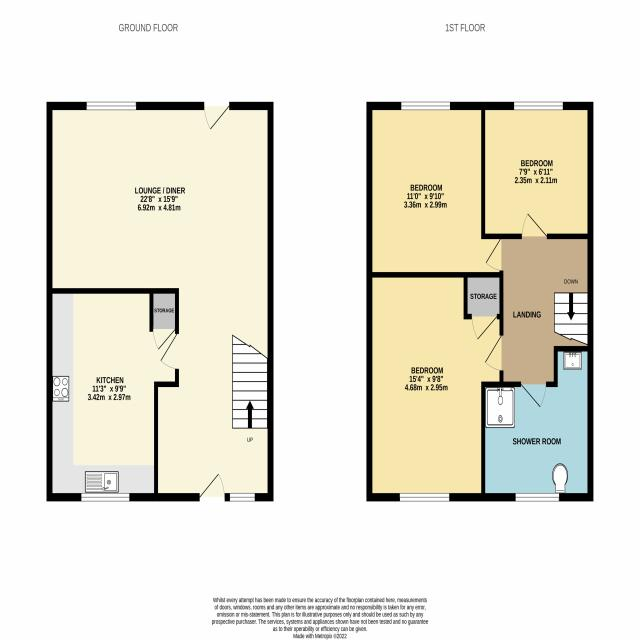DOOR: (202, 101, 230, 131), (198, 472, 226, 502), (484, 334, 504, 372), (159, 332, 179, 370), (520, 381, 547, 409), (521, 212, 548, 239), (484, 237, 504, 272)
ROOM: (46, 101, 274, 502), (366, 272, 504, 502), (46, 288, 179, 502), (366, 101, 504, 278), (481, 101, 594, 240)
WINDOW: (399, 492, 450, 502), (513, 101, 564, 111), (86, 101, 137, 111), (401, 101, 451, 111), (81, 492, 130, 502), (515, 492, 560, 502), (229, 492, 256, 502)
